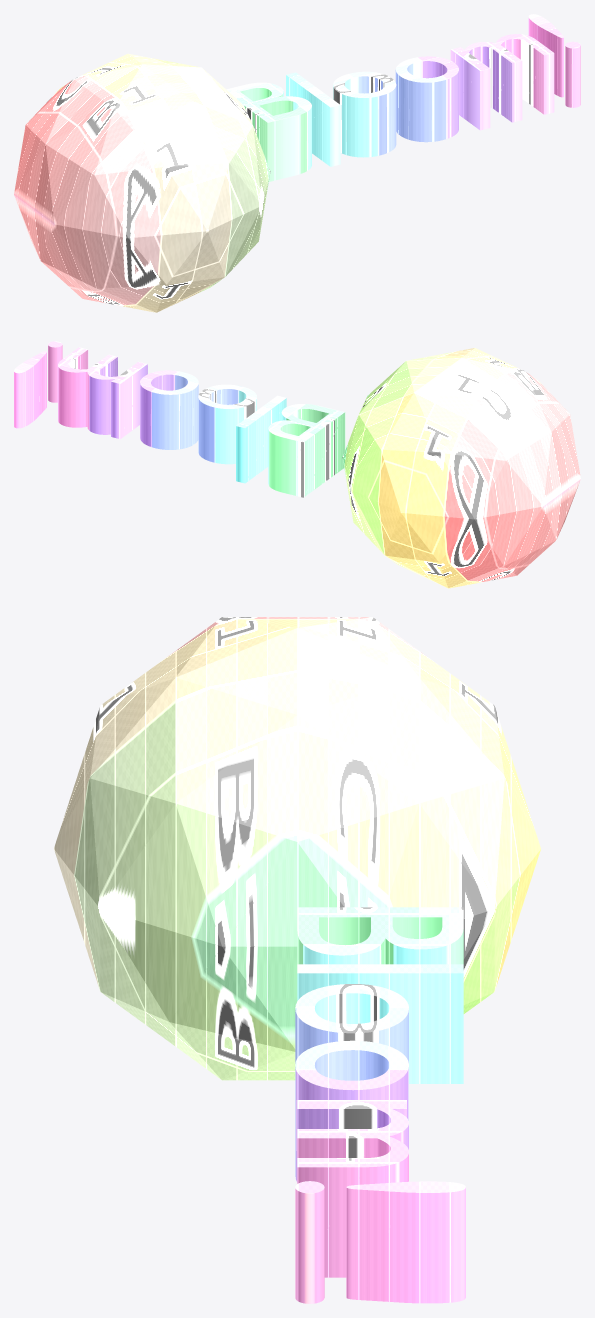
File: bloom_example.glb
3 renders of one model, top to bottom at view 1: azimuth 30°, elevation 25°; view 2: azimuth 150°, elevation 25°; view 3: azimuth 270°, elevation 25°, orthographic. The views are drawn at different scales.
Visible parts, largest first — view 1: Icosphere; view 2: Icosphere; view 3: Icosphere.
Boxes of the visible parts, box(x1,y1,x2,y2) form: Icosphere: box(14, 14, 580, 312); Icosphere: box(14, 341, 580, 588); Icosphere: box(54, 617, 540, 1303).
Size of the model in its own units: 4.83 by 2 by 2.
